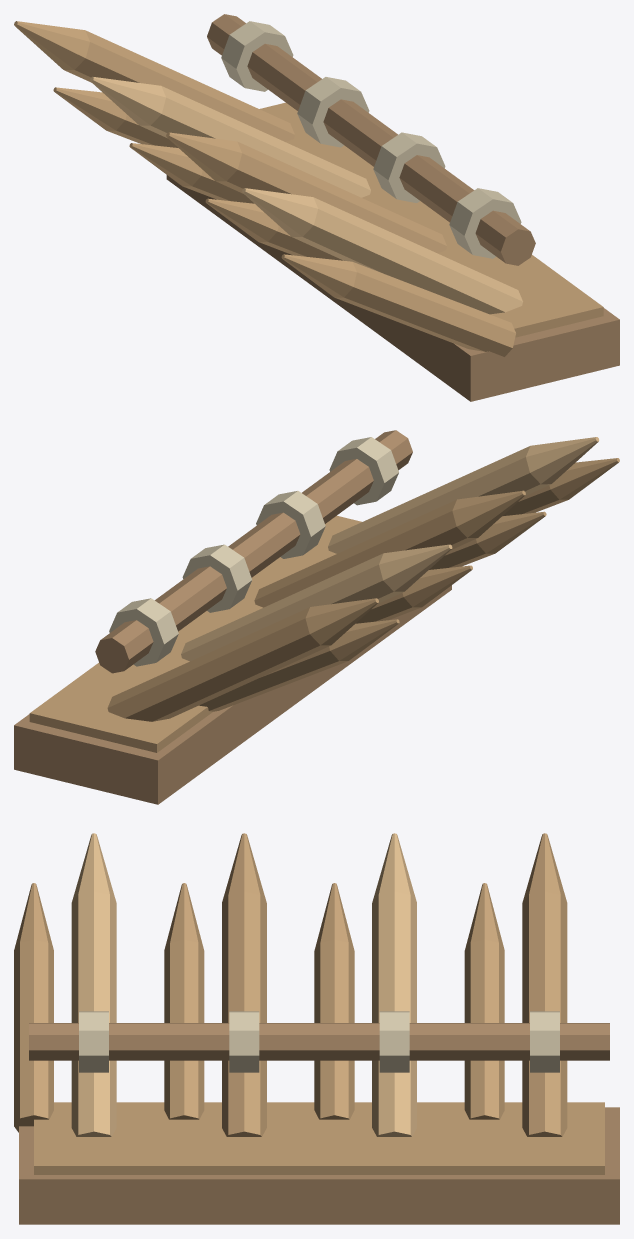
File: ws_gate_barricade_l.glb
The picture shows the model from 3 angles, top to bottom: view 1: azimuth 30°, elevation 25°; view 2: azimuth 150°, elevation 25°; view 3: azimuth 270°, elevation 25°; orthographic projection. The views are drawn at different scales.
Visible parts, largest first — view 1: ws_gate_barricade_l; view 2: ws_gate_barricade_l; view 3: ws_gate_barricade_l.
Part boxes in pixels (x1,y1,x2,y2): ws_gate_barricade_l: (14, 14, 619, 401); ws_gate_barricade_l: (14, 430, 619, 804); ws_gate_barricade_l: (14, 833, 619, 1224).
Bounding box in the file's own units: 0.773 × 0.5045 × 1.21.
